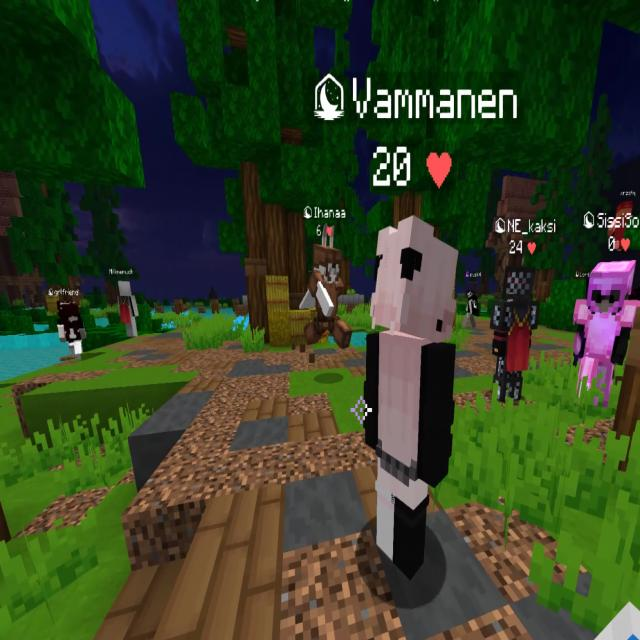Player: (366, 213, 454, 586), (572, 258, 634, 402), (299, 238, 352, 349), (56, 300, 86, 358), (115, 278, 139, 338)
